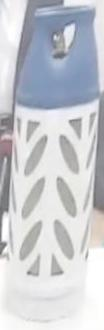cylinder: (1, 1, 104, 330)
